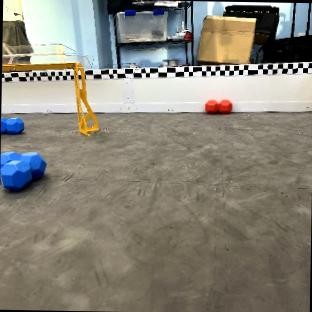V5_BLUE: (0, 150, 46, 191), (0, 116, 23, 134)
V5_RED: (204, 98, 231, 113)
